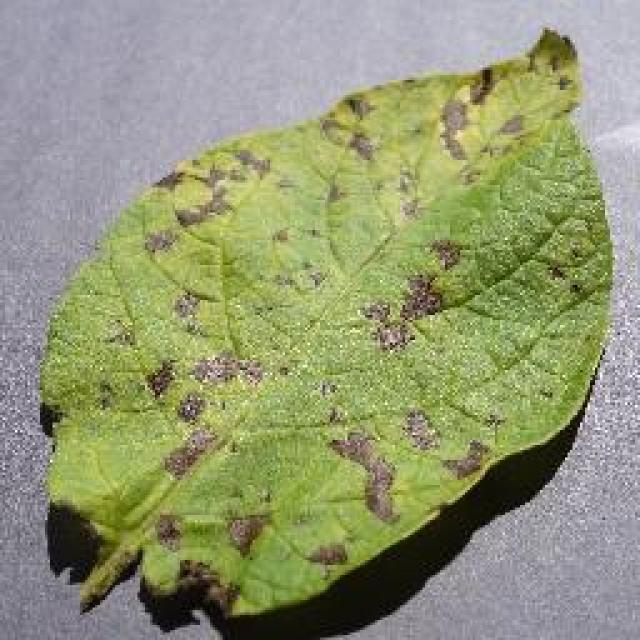early_blight: (32, 22, 620, 638)
